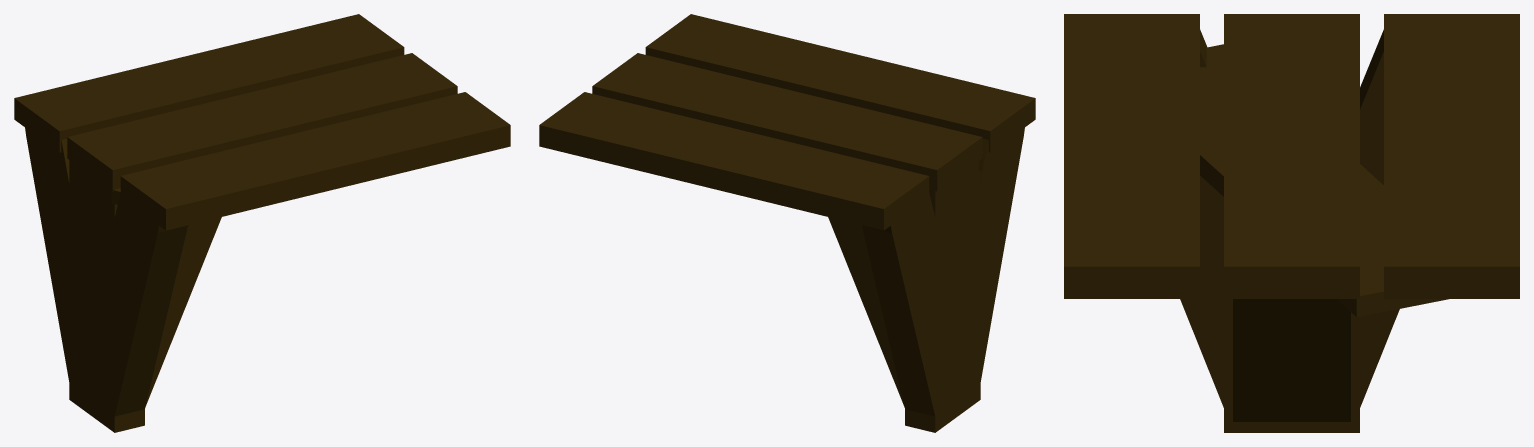
Rendered from Planks.fbx.
The picture shows the model from 3 angles, left to right: view 1: azimuth 30°, elevation 25°; view 2: azimuth 150°, elevation 25°; view 3: azimuth 270°, elevation 25°; orthographic projection. The views are drawn at different scales.
Parts seen in each view (by area): view 1: pCube63; view 2: pCube63; view 3: pCube63.
Part boxes in pixels (x1,y1,x2,y2): pCube63: (14,14,510,432); pCube63: (539,14,1035,432); pCube63: (1064,14,1519,432).
Bounding box in the file's own units: 3.37 × 2.46 × 2.57.
